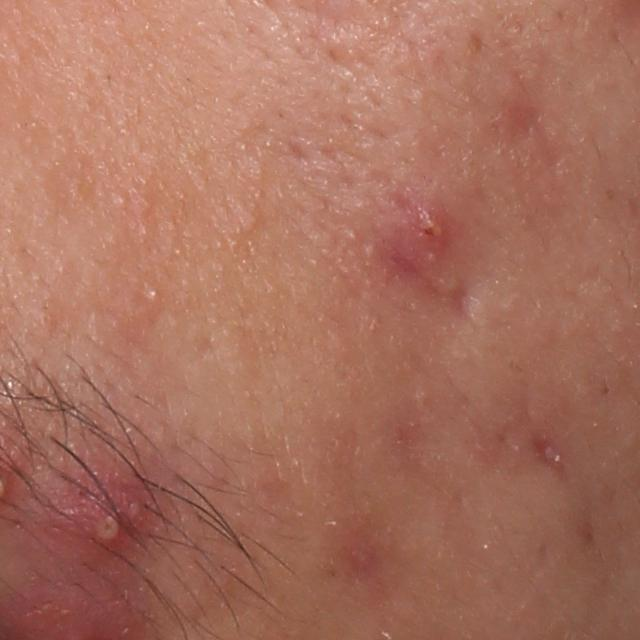atrophic_scar: (388, 253, 479, 331), (523, 420, 579, 489)
comedo: (238, 206, 268, 236)
papule: (396, 200, 463, 257)
pustule: (84, 495, 132, 548)
